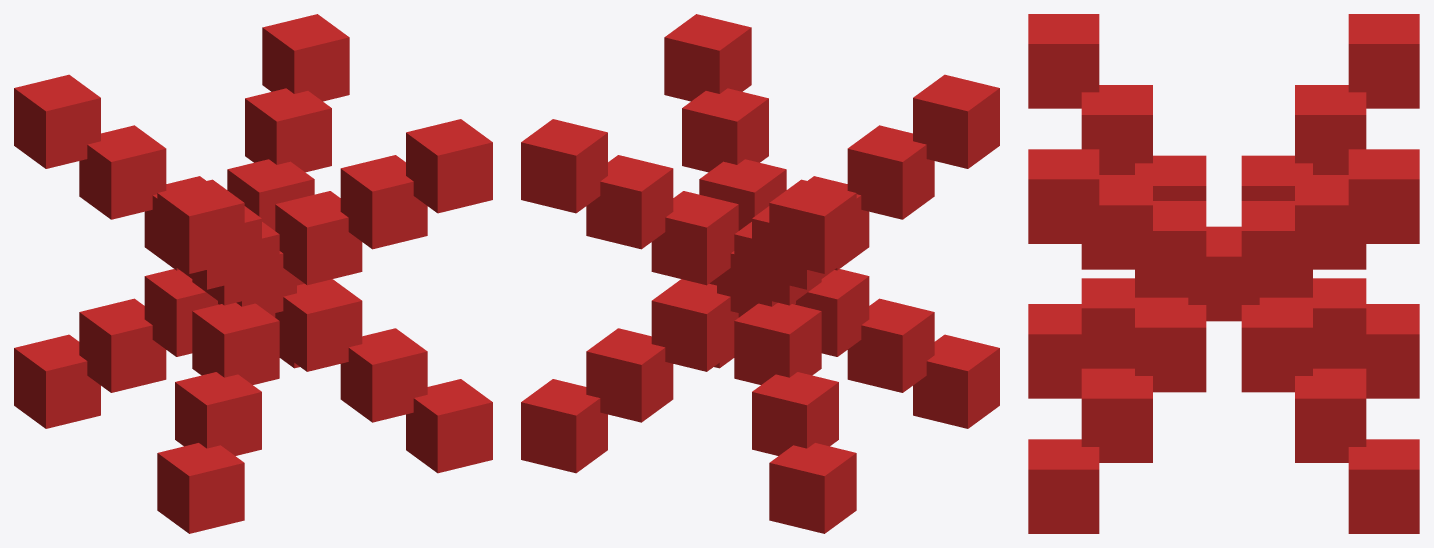
Rendered from cross.obj.
3 renders of one model, left to right at view 1: azimuth 30°, elevation 25°; view 2: azimuth 150°, elevation 25°; view 3: azimuth 270°, elevation 25°, orthographic. The views are drawn at different scales.
Bounding box in the file's own units: 2.2 × 2.2 × 2.2.
1 material, 1 textured.
